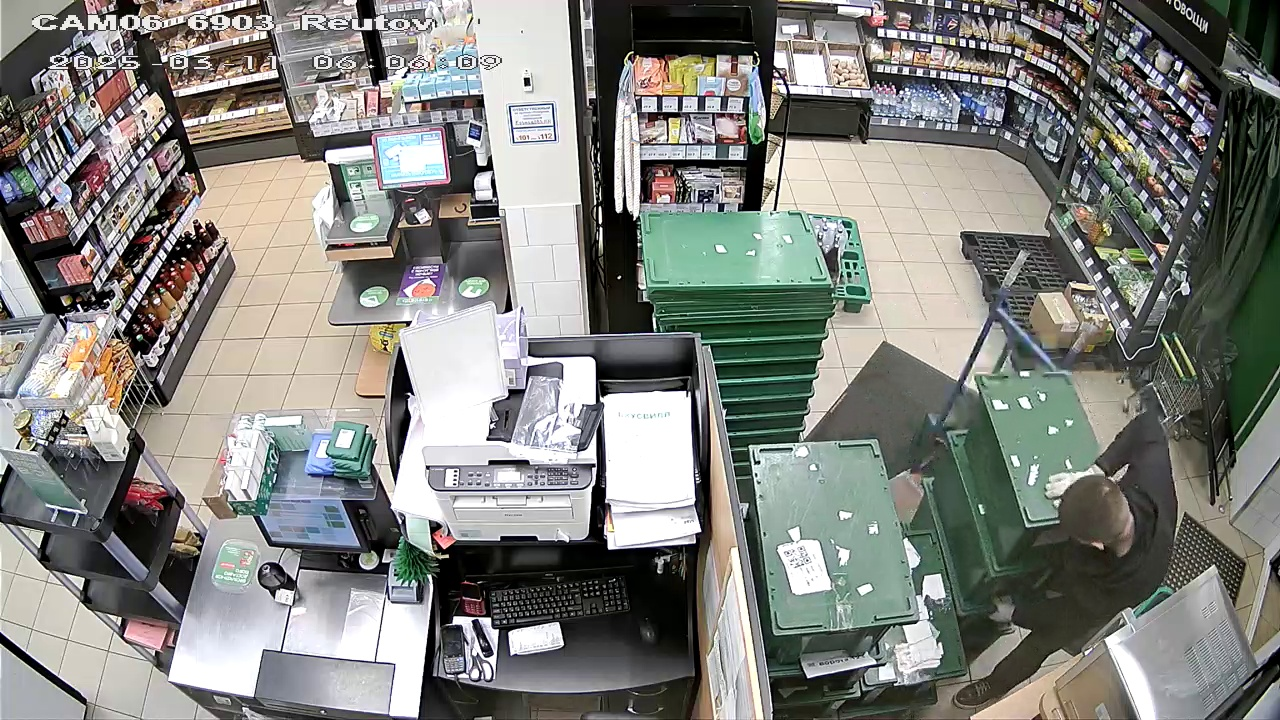Human: (975, 397, 1179, 702)
pallet: (965, 224, 1124, 362)
